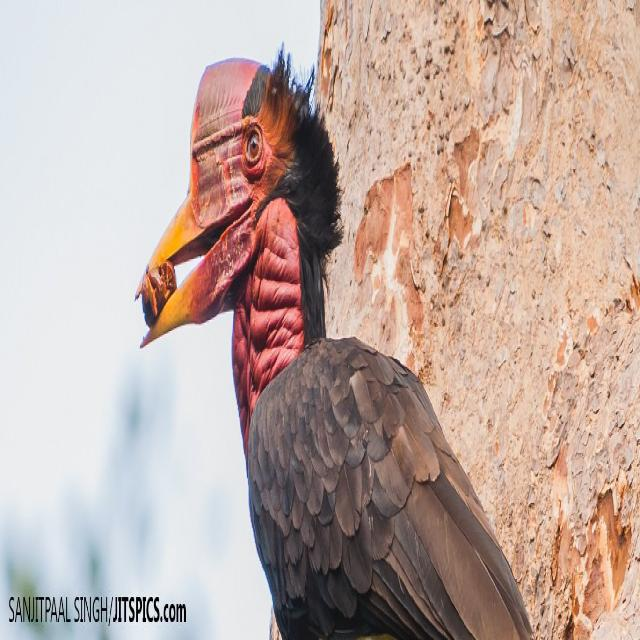Hornbill: (133, 45, 518, 640)
